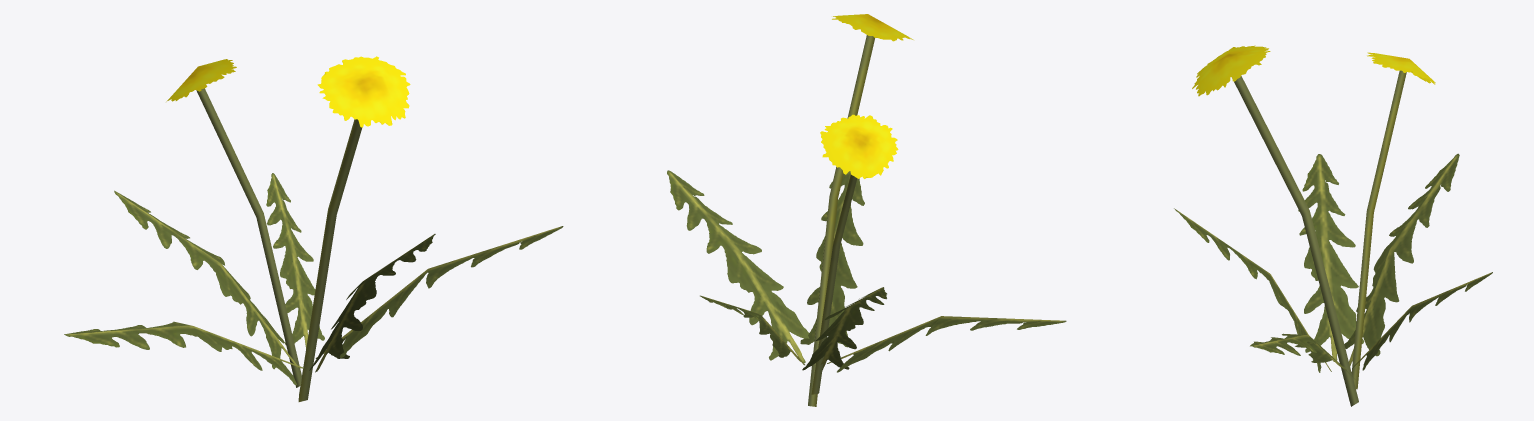
File: Dandelion02.fbx
3 renders of one model, left to right at view 1: azimuth 30°, elevation 25°; view 2: azimuth 150°, elevation 25°; view 3: azimuth 270°, elevation 25°, orthographic. The views are drawn at different scales.
Parts seen in each view (by area): view 1: Dandelion02; view 2: Dandelion02; view 3: Dandelion02.
Boxes of the visible parts, x1,y1,x2,y2 form: Dandelion02: (64,56,563,401); Dandelion02: (667,14,1066,406); Dandelion02: (1174,45,1492,406).
Bounding box in the file's own units: 62.49 × 43.09 × 41.15.
